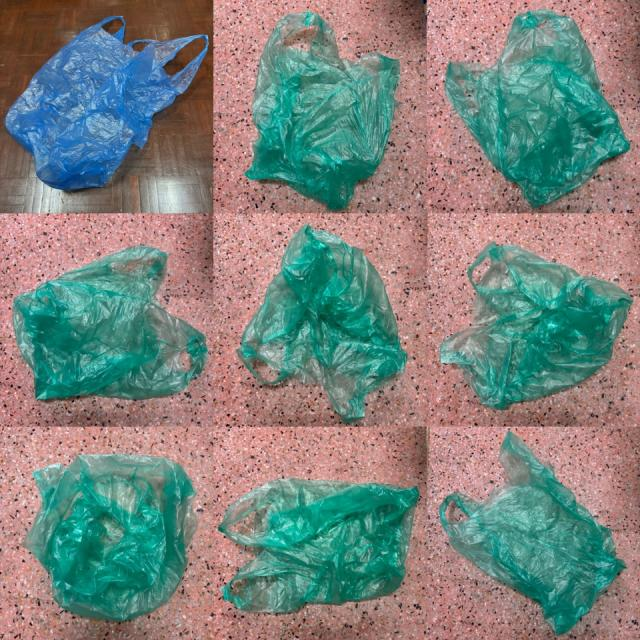Single-layer Plastic: (440, 431, 625, 633), (445, 10, 630, 206), (5, 16, 209, 189), (238, 225, 406, 422), (440, 242, 632, 409), (245, 11, 400, 209), (12, 246, 208, 400), (24, 454, 198, 620), (219, 479, 419, 612)
